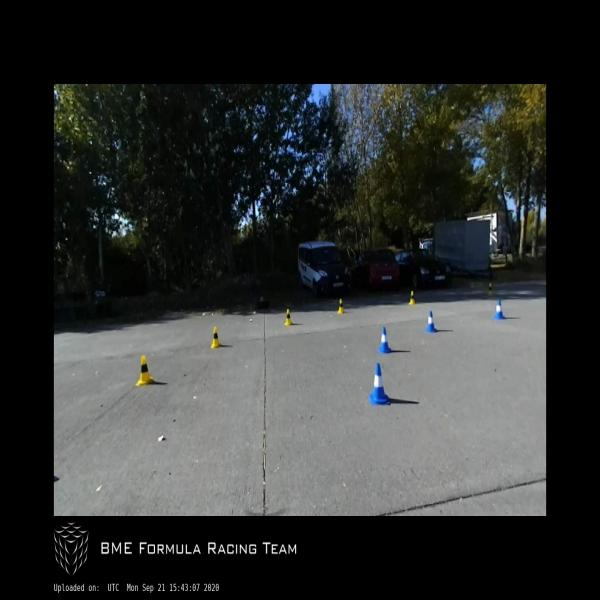blue_cone: (369, 364, 391, 405), (378, 327, 392, 352), (492, 299, 506, 320), (425, 311, 437, 332)
yellow_cone: (135, 355, 153, 386), (210, 326, 222, 348), (284, 310, 292, 326), (337, 299, 345, 314), (408, 290, 416, 305), (487, 282, 493, 296)
